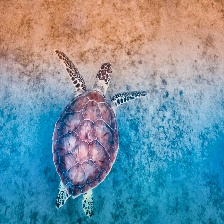seaturtle: (51, 49, 120, 207)
